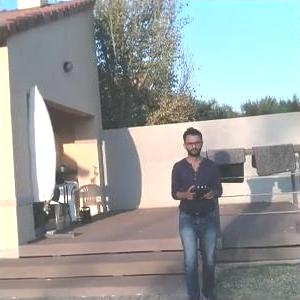follow: (166, 120, 226, 298)
